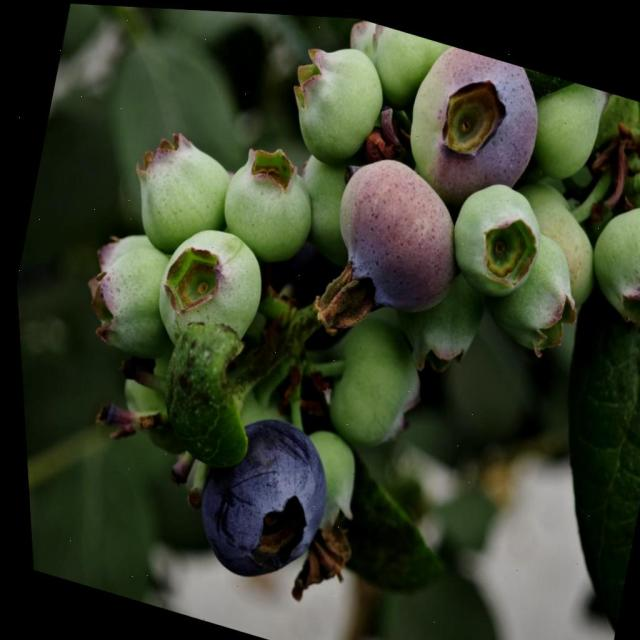RipeBlueBerry: (172, 399, 338, 596)
Semi-RipeBlueBerry: (311, 137, 473, 335), (391, 32, 553, 207)
UnripeBlueBerry: (139, 214, 272, 368), (274, 27, 394, 170), (435, 164, 551, 300), (208, 135, 326, 266), (572, 185, 640, 329)
